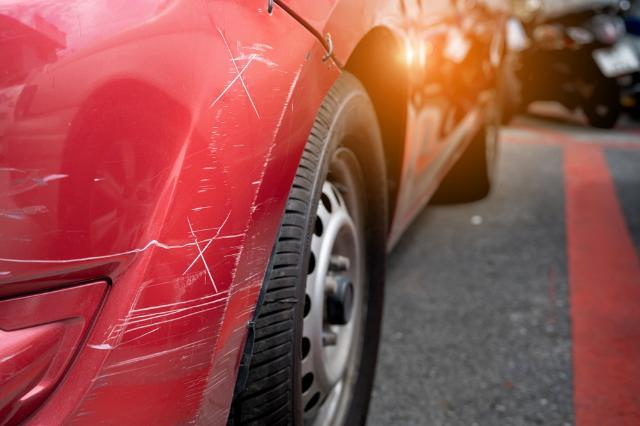scratch: (0, 19, 301, 426)
